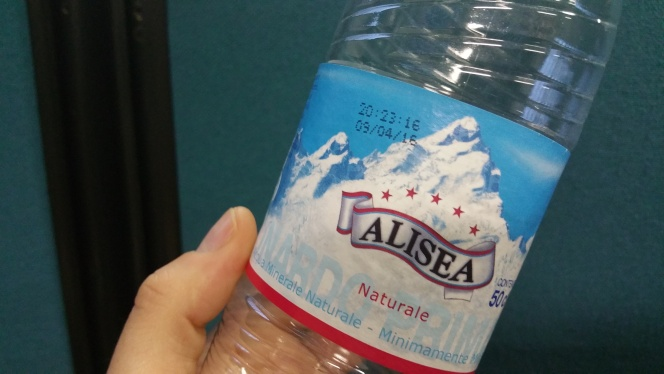bottle: (193, 1, 630, 371)
